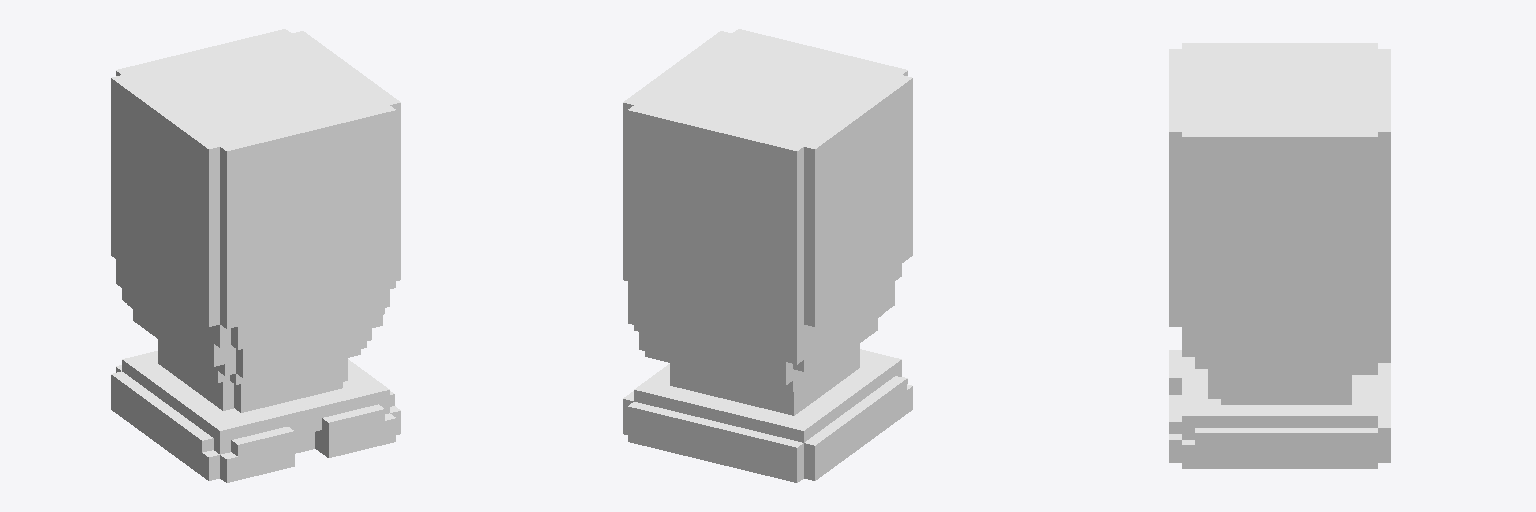
Rendered from MeleeRogatiy-8.obj.
3 views of the same model, side by side, from view 1: azimuth 30°, elevation 25°; view 2: azimuth 150°, elevation 25°; view 3: azimuth 270°, elevation 25° (orthographic).
Visible parts, largest first — view 1: object 1; view 2: object 1; view 3: object 1.
Boxes of the visible parts, x1=… form: object 1: x1=111, y1=29, x2=400, y2=482; object 1: x1=623, y1=29, x2=912, y2=482; object 1: x1=1169, y1=43, x2=1390, y2=468.
Bounding box in the file's own units: 1.7 × 2.8 × 1.7.